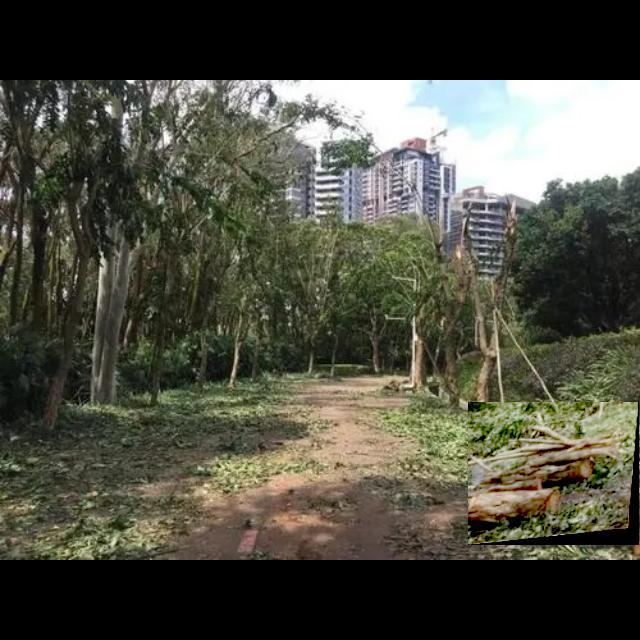fallen_tree: (468, 402, 640, 546)
